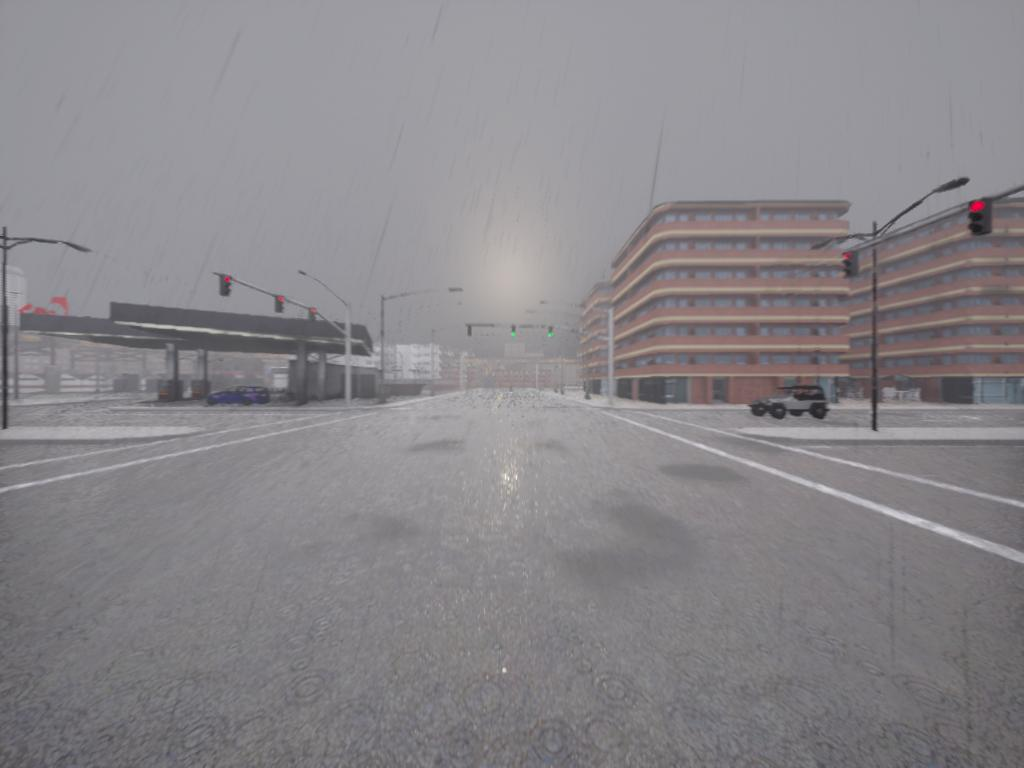traffic_light: (971, 199, 993, 236), (844, 252, 861, 279), (219, 275, 233, 298), (277, 296, 286, 312), (310, 310, 321, 323), (509, 327, 517, 340), (547, 329, 557, 339), (469, 326, 473, 338)
